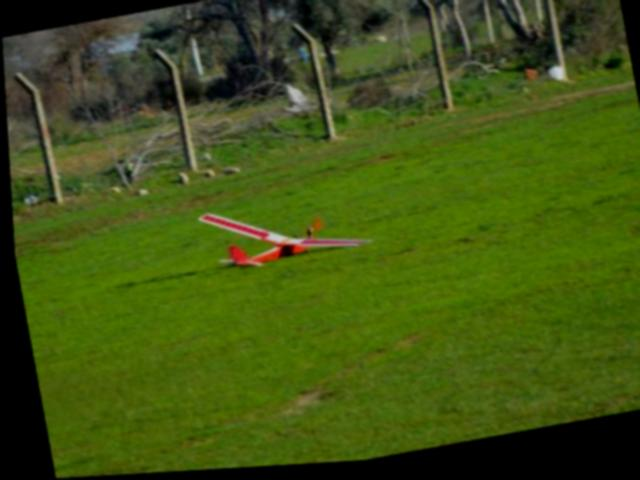iha: (183, 180, 378, 283)
